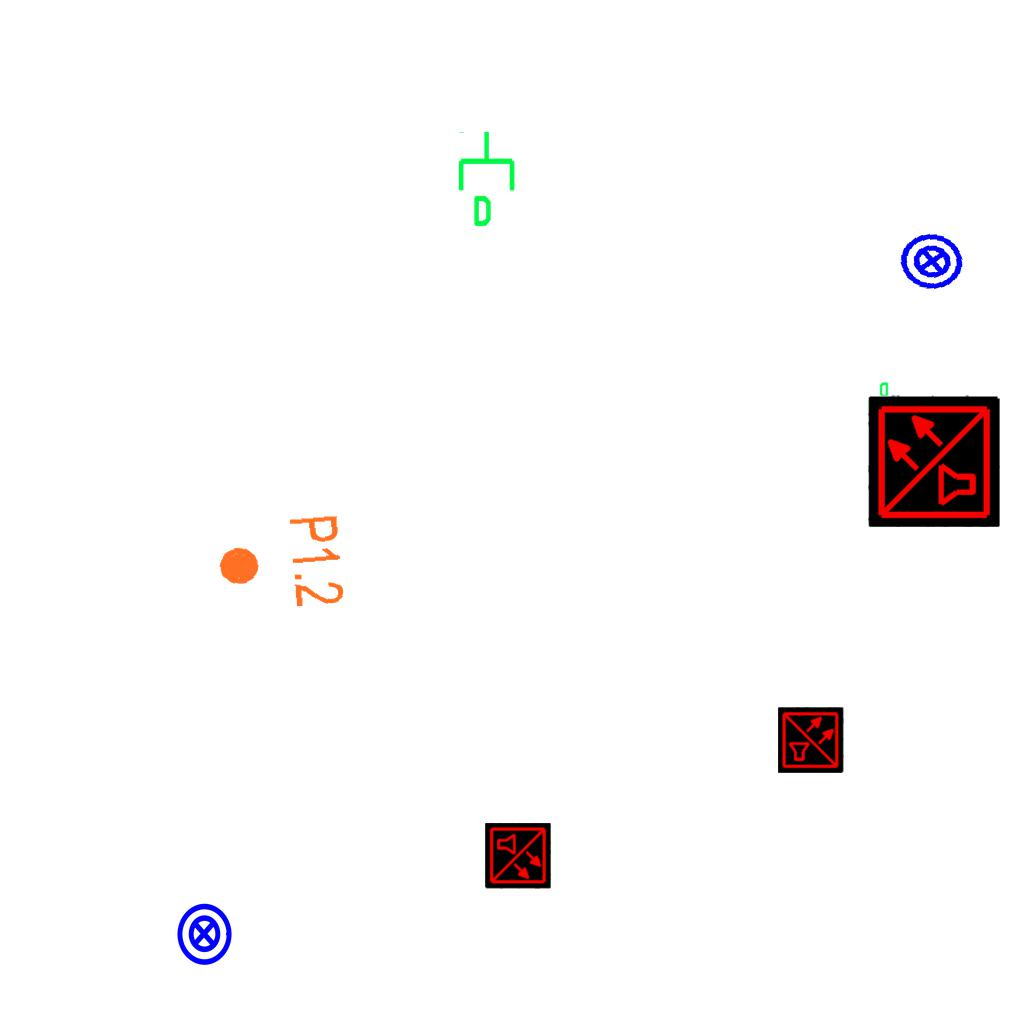Datenanschluss_einfach: (454, 129, 523, 229), (864, 381, 898, 431)
Downlight_LED_Einbauleuchten_Flur: (212, 512, 349, 616)
OKW_Multisensormelder_(Kombination_optischer_Rauch-Kahlenmonoxid_Waerme-Melder): (868, 395, 1000, 527), (778, 707, 844, 773), (485, 823, 551, 889)
Taster_beleuchtet: (894, 223, 970, 299), (171, 901, 237, 967)
